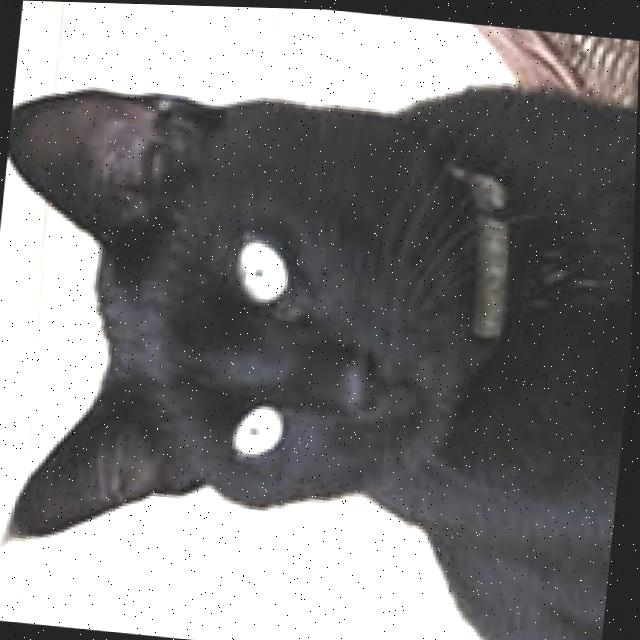Bombay: (0, 33, 639, 640)
